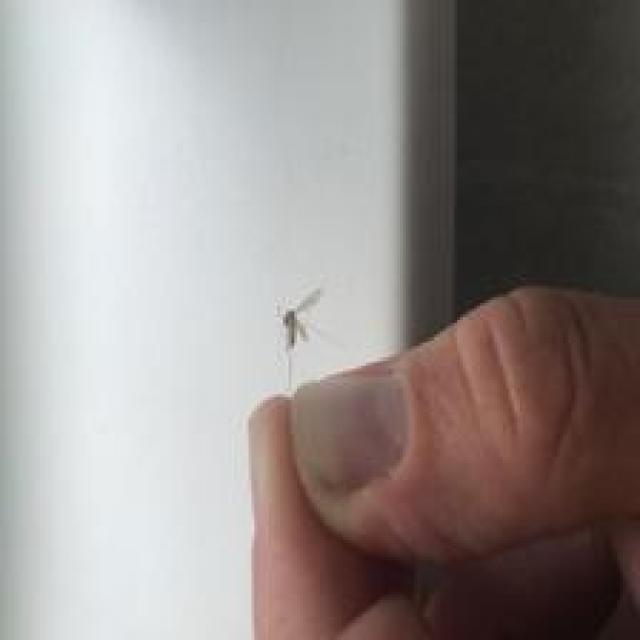Culex: (274, 286, 323, 351)
